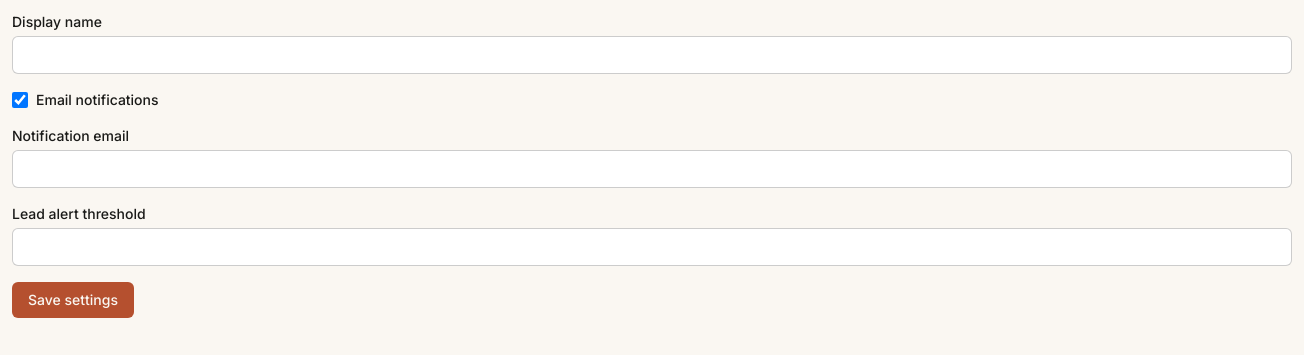
Scenario: SettingsForm › rejects an invalid email format when email notifications are enabled
Type "Philip" into the field labelled "Display name" at (652, 55), box [12, 36, 1292, 74]
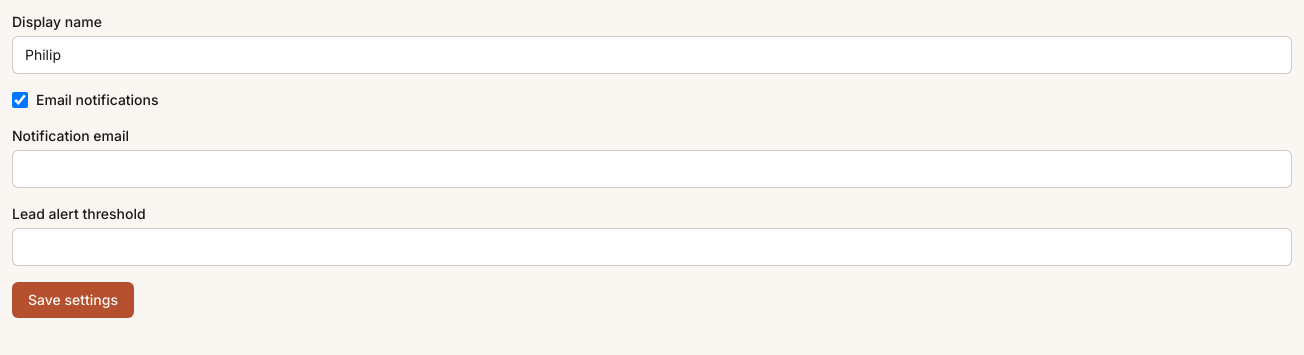
Type "philip@example.com" into the field labelled "Notification email" at (652, 169), box [12, 150, 1292, 188]
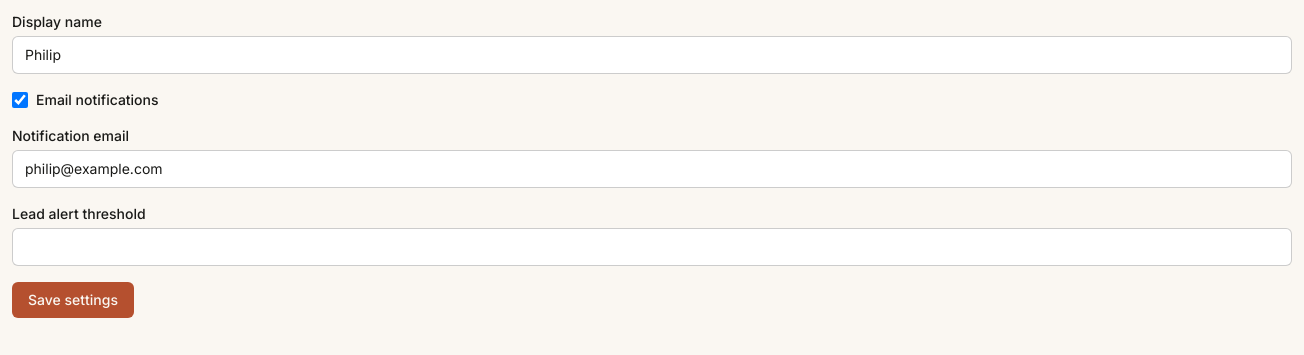
Type "50" into the number field labelled "Lead alert threshold" at (652, 247), box [12, 228, 1292, 266]
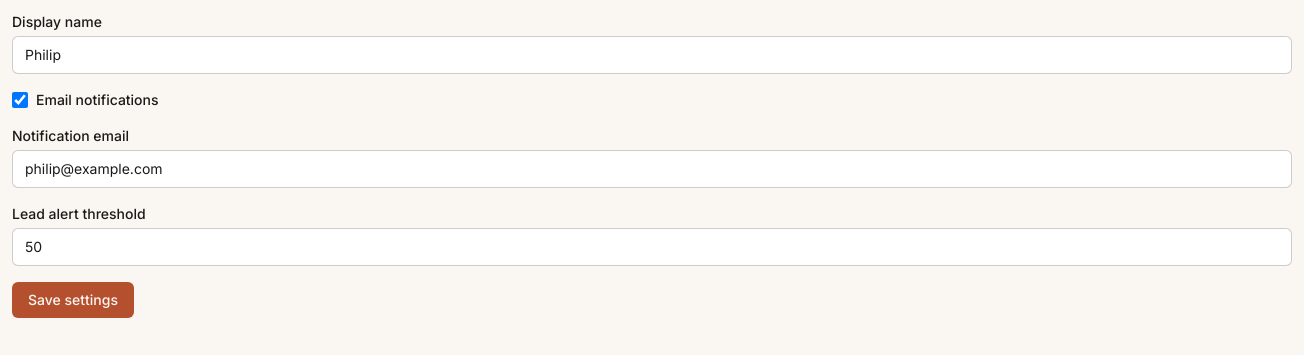
Replace the text in the field labelled "Notification email" with "not-an-email" at (652, 169), box [12, 150, 1292, 188]
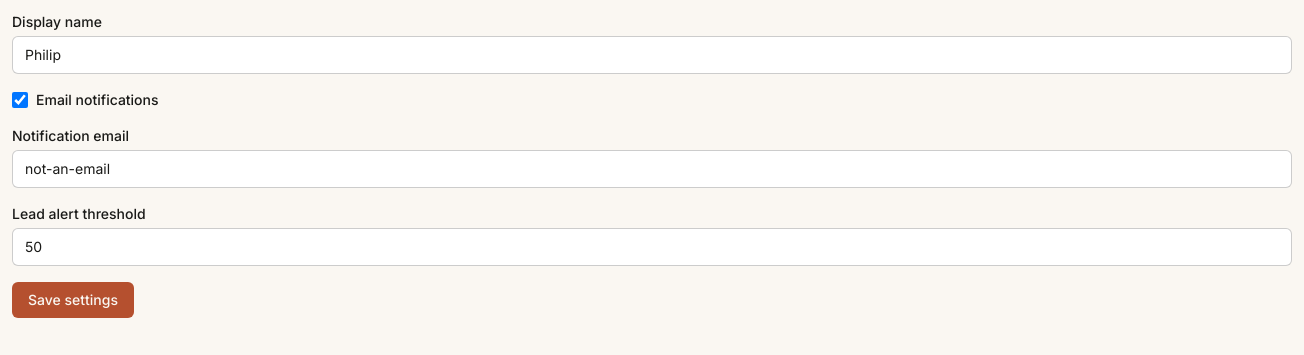
Click the button "Save settings" at (73, 300), box [12, 282, 134, 318]
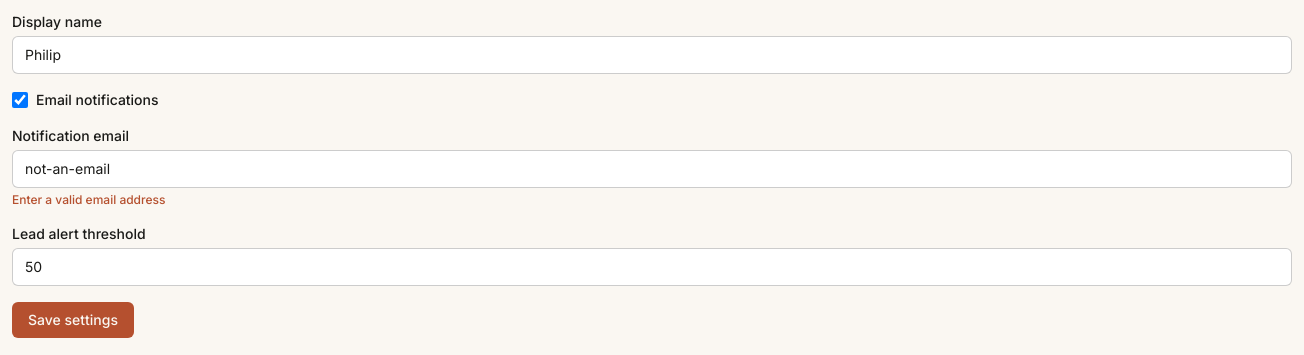
Expected: the text "Enter a valid email address" is shown, [12, 192, 165, 207]
